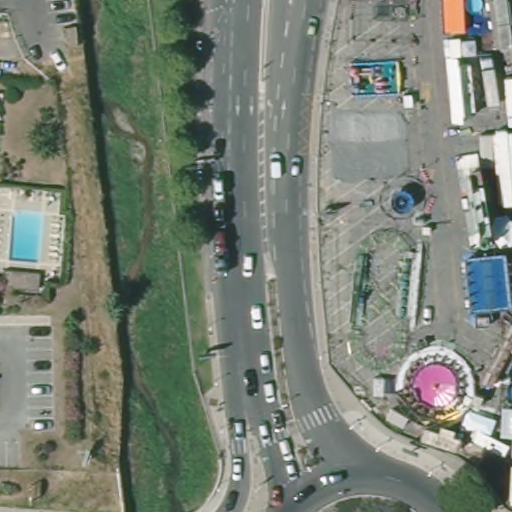pool: (6, 206, 46, 264)
